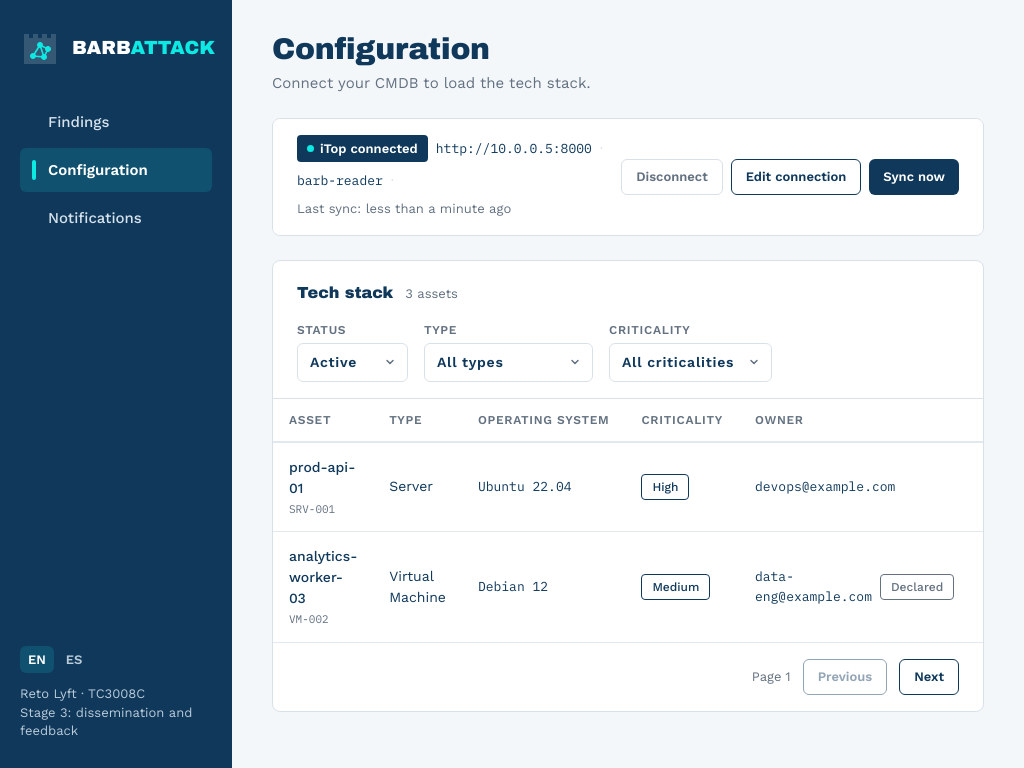
Scenario: Tech stack › changing a filter drops the cursor and starts again from page one
The image size is (1024, 768).
Expected: the text "iTop connected" is shown, [297, 134, 428, 162]
Click the button "Next": (929, 676) [899, 658, 959, 694]
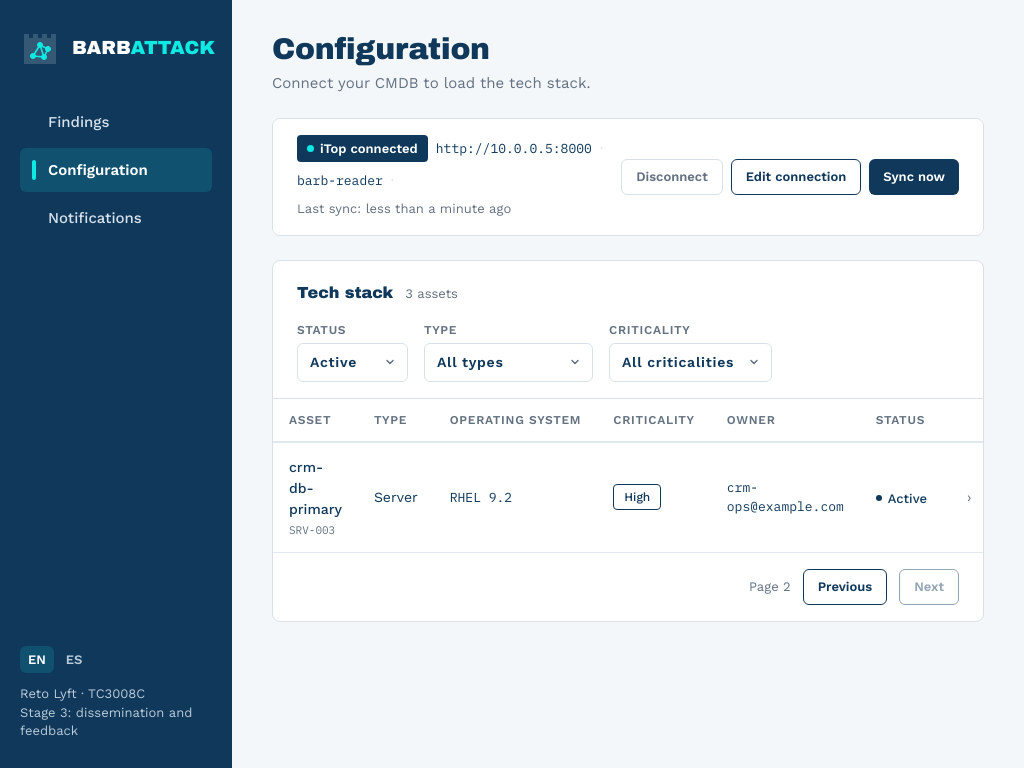
Expected: the row "crm-db-primary" is shown, [273, 442, 983, 552]
Select "High" in the dropdown labelled "Criticality": (690, 362) [609, 342, 772, 382]
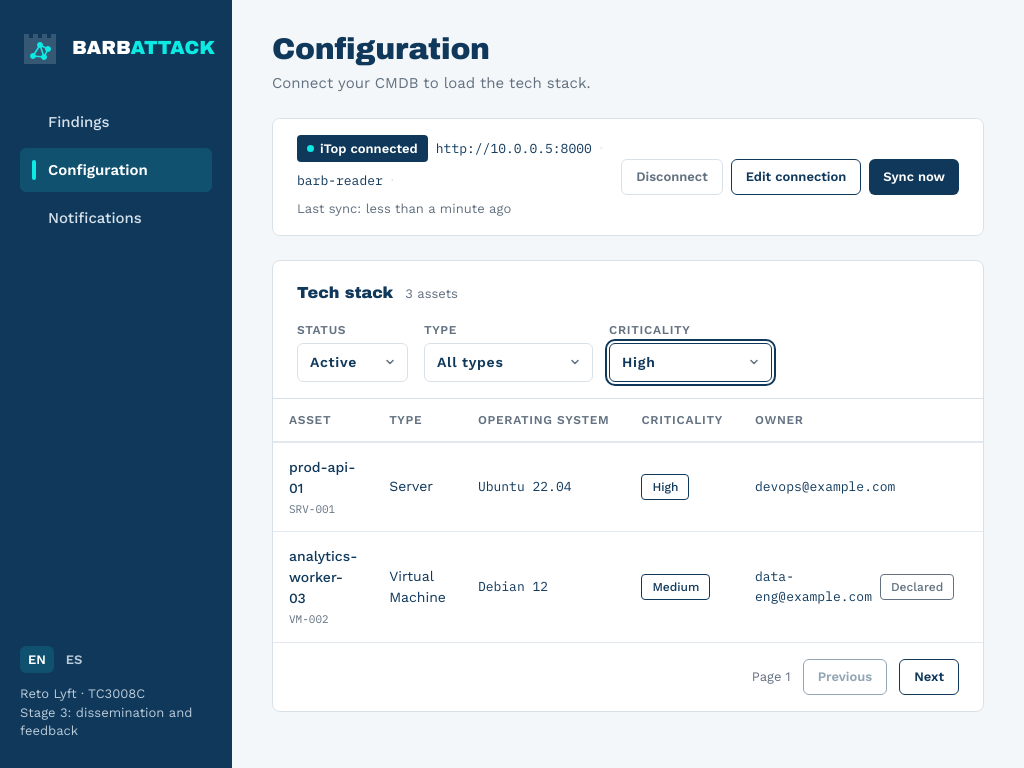
Expected: the row "prod-api-01" is shown, [273, 442, 983, 532]
Expected: the text "Page 1" is shown, [752, 667, 791, 686]
